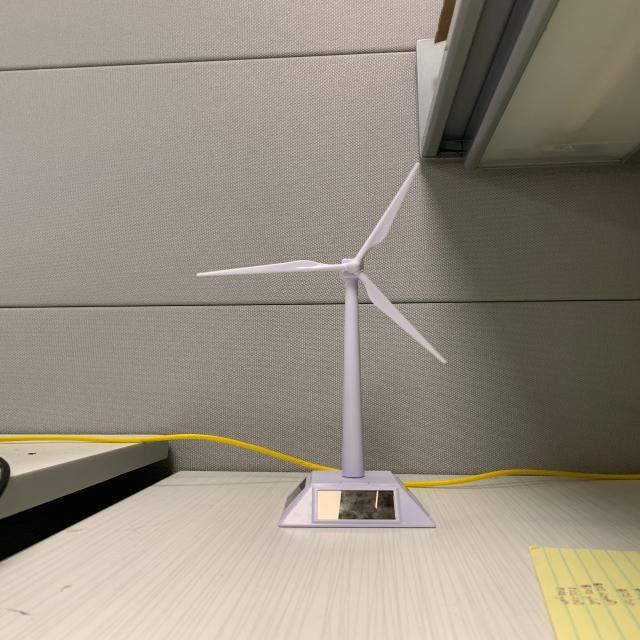solid-blade: (356, 272, 446, 363), (355, 162, 419, 262), (198, 260, 336, 276)
